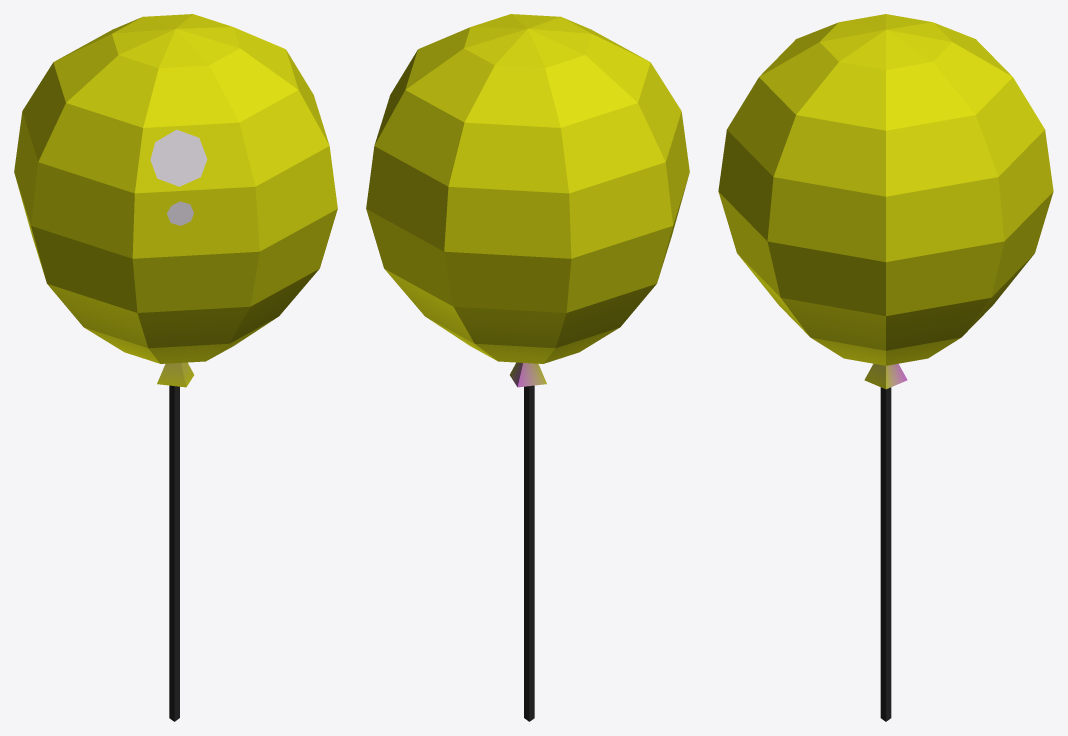
The model's file is AnniversaryYellowBaloon.glb.
The picture shows the model from 3 angles, left to right: view 1: azimuth 30°, elevation 25°; view 2: azimuth 150°, elevation 25°; view 3: azimuth 270°, elevation 25°; orthographic projection.
Visible parts, largest first — view 1: AnniversaryYellowBaloon; view 2: AnniversaryYellowBaloon; view 3: AnniversaryYellowBaloon.
Boxes of the visible parts, x1,y1,x2,y2 form: AnniversaryYellowBaloon: (14, 14, 337, 721); AnniversaryYellowBaloon: (366, 14, 689, 721); AnniversaryYellowBaloon: (718, 14, 1053, 721).
Size of the model in its own units: 0.5698 by 1.29 by 0.5698.
